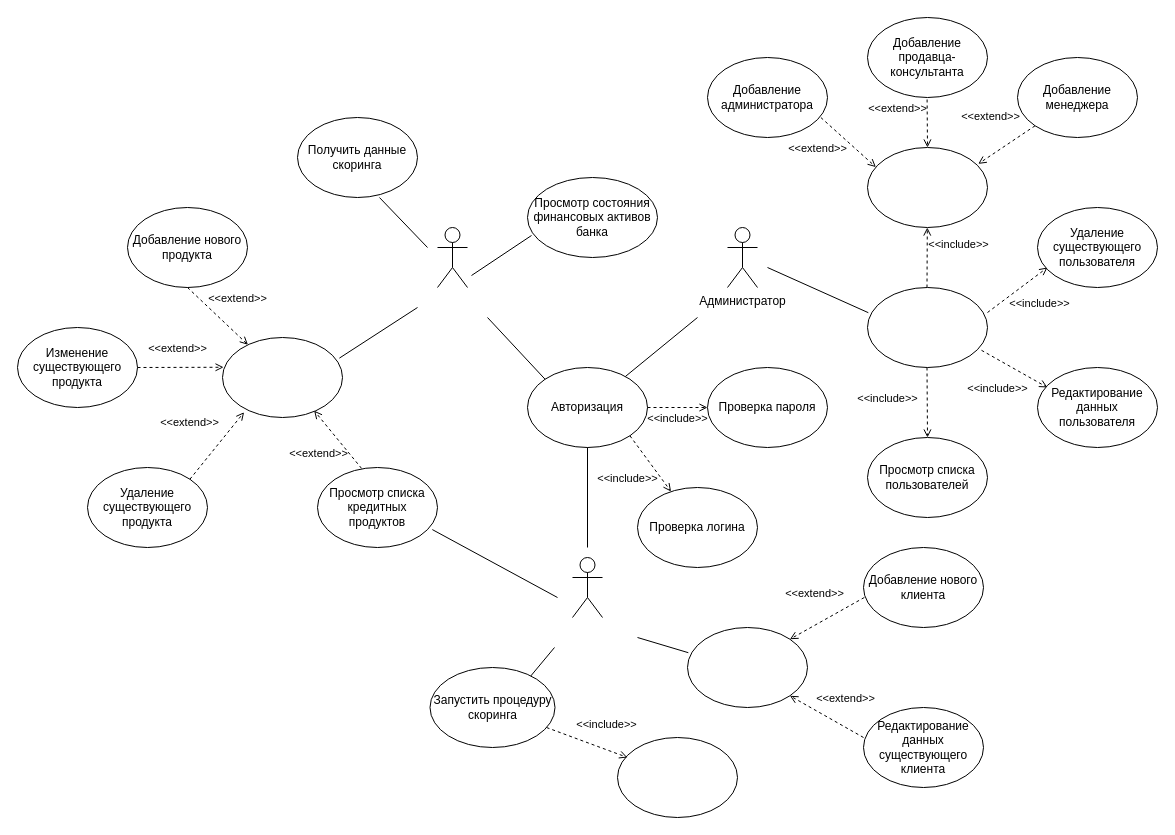
This 1175x835 diagram has some shape labels left out. Here are the shapes that lost their labels. From the top down, the centre of each, then its label:
At point (927, 187): "Добавление нового пользователя".
At point (452, 257): "Менеджер".
At point (927, 327): "Работа с пользователями".
At point (282, 377): "Работа со списком кредитных продуктов".
At point (587, 587): "Продавец-консультант".
At point (747, 667): "Работа с клиентами".
At point (677, 777): "Ввести параметры предпочтительного кредита".
